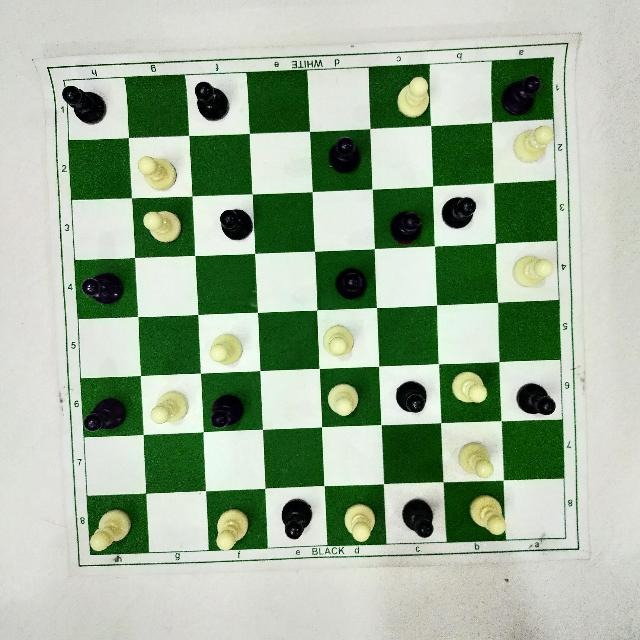black-pawn: (57, 79, 115, 126), (201, 387, 253, 435), (75, 265, 126, 312), (188, 77, 236, 126), (392, 497, 441, 543), (385, 203, 434, 247), (391, 377, 439, 421), (511, 377, 559, 421), (211, 204, 260, 245), (277, 494, 317, 544), (499, 71, 543, 116), (326, 130, 366, 178), (82, 397, 128, 435), (330, 260, 372, 301), (439, 194, 483, 228)
white-pawn: (462, 491, 518, 540), (83, 508, 142, 554), (447, 365, 494, 414), (212, 504, 255, 557), (389, 72, 437, 119), (130, 148, 179, 193), (453, 436, 504, 478), (507, 125, 558, 165), (316, 320, 368, 359), (339, 499, 381, 547), (511, 249, 556, 293), (146, 387, 191, 429), (206, 330, 251, 369), (140, 207, 185, 245), (323, 380, 367, 418)
